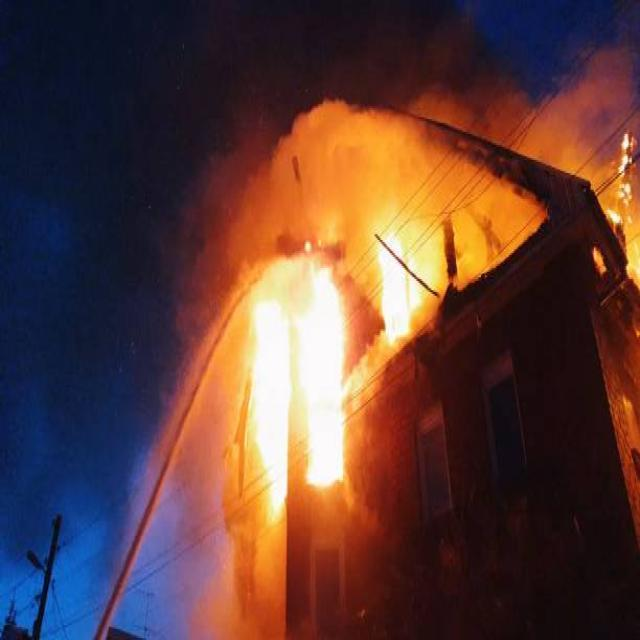Fire: (244, 236, 363, 524), (357, 200, 450, 361)
Smoke: (139, 0, 518, 244), (534, 15, 628, 204)
